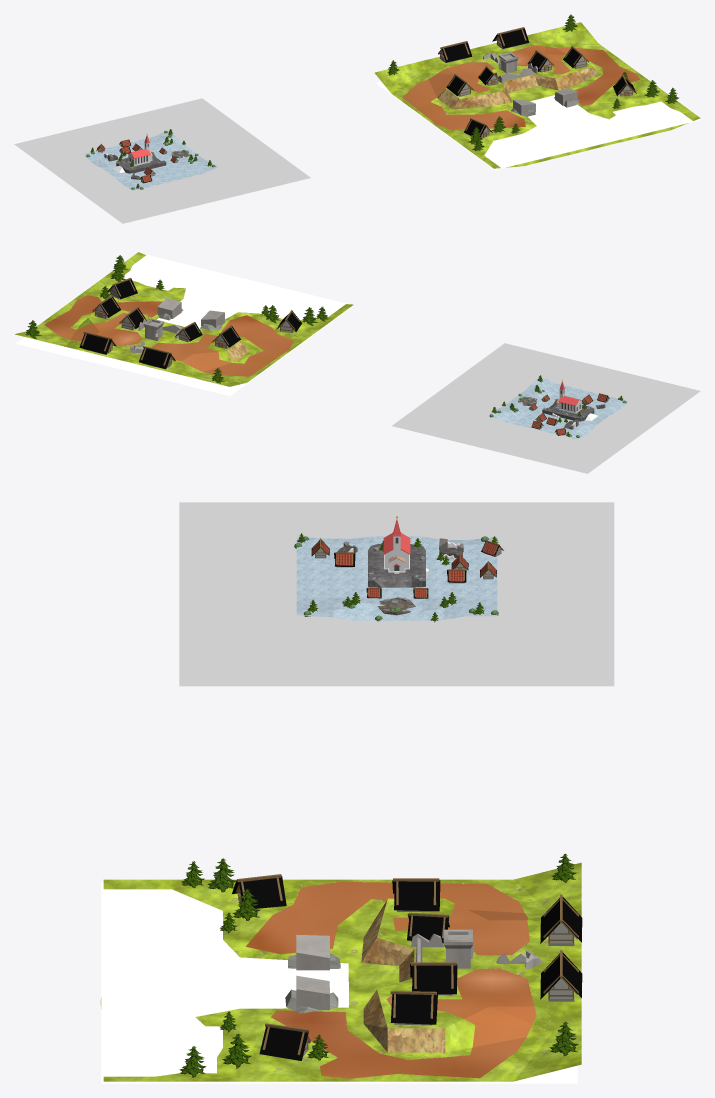
File: last frontier.glb
3 renders of one model, top to bottom at view 1: azimuth 30°, elevation 25°; view 2: azimuth 150°, elevation 25°; view 3: azimuth 270°, elevation 25°, orthographic. The views are drawn at different scales.
Visible parts, largest first — view 1: Plane.002, Plane, water, Plane.004, Plane.001, Plane.003, Cube.002, Church; view 2: Plane.002, Plane, water, Plane.004, Plane.001, Cube.002, Church; view 3: Plane.002, Plane, water, Plane.004, Plane.001, Plane.003, Cube.002, Church.
Boxes of the visible parts, <box> form: Plane.002: <box>14,98,310,223</box>; Plane: <box>374,22,700,168</box>; water: <box>376,81,700,169</box>; Plane.004: <box>402,45,640,130</box>; Plane.001: <box>83,131,217,190</box>; Plane.003: <box>438,67,599,109</box>; Cube.002: <box>116,153,166,173</box>; Church: <box>128,133,152,166</box>; Plane.002: <box>392,343,700,473</box>; Plane: <box>15,252,353,386</box>; water: <box>15,254,353,395</box>; Plane.004: <box>44,295,293,376</box>; Plane.001: <box>488,377,628,439</box>; Cube.002: <box>542,399,594,421</box>; Church: <box>556,379,582,413</box>; Plane.002: <box>179,502,614,686</box>; Plane: <box>100,862,582,1081</box>; water: <box>101,882,577,1083</box>; Plane.004: <box>245,882,536,1078</box>; Plane.001: <box>296,536,497,620</box>; Plane.003: <box>361,899,445,1052</box>; Cube.002: <box>368,544,425,587</box>; Church: <box>383,516,410,573</box>.
Size of the model in its own units: 5.42 by 0.5166 by 2.15.
Materials: 24 (16 with a texture image).
